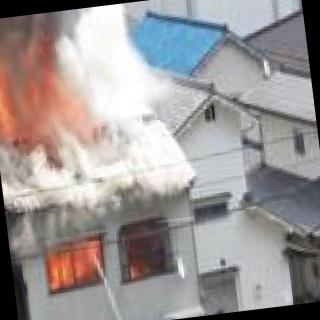fire: (0, 22, 110, 155), (46, 231, 145, 294), (0, 164, 38, 320)
